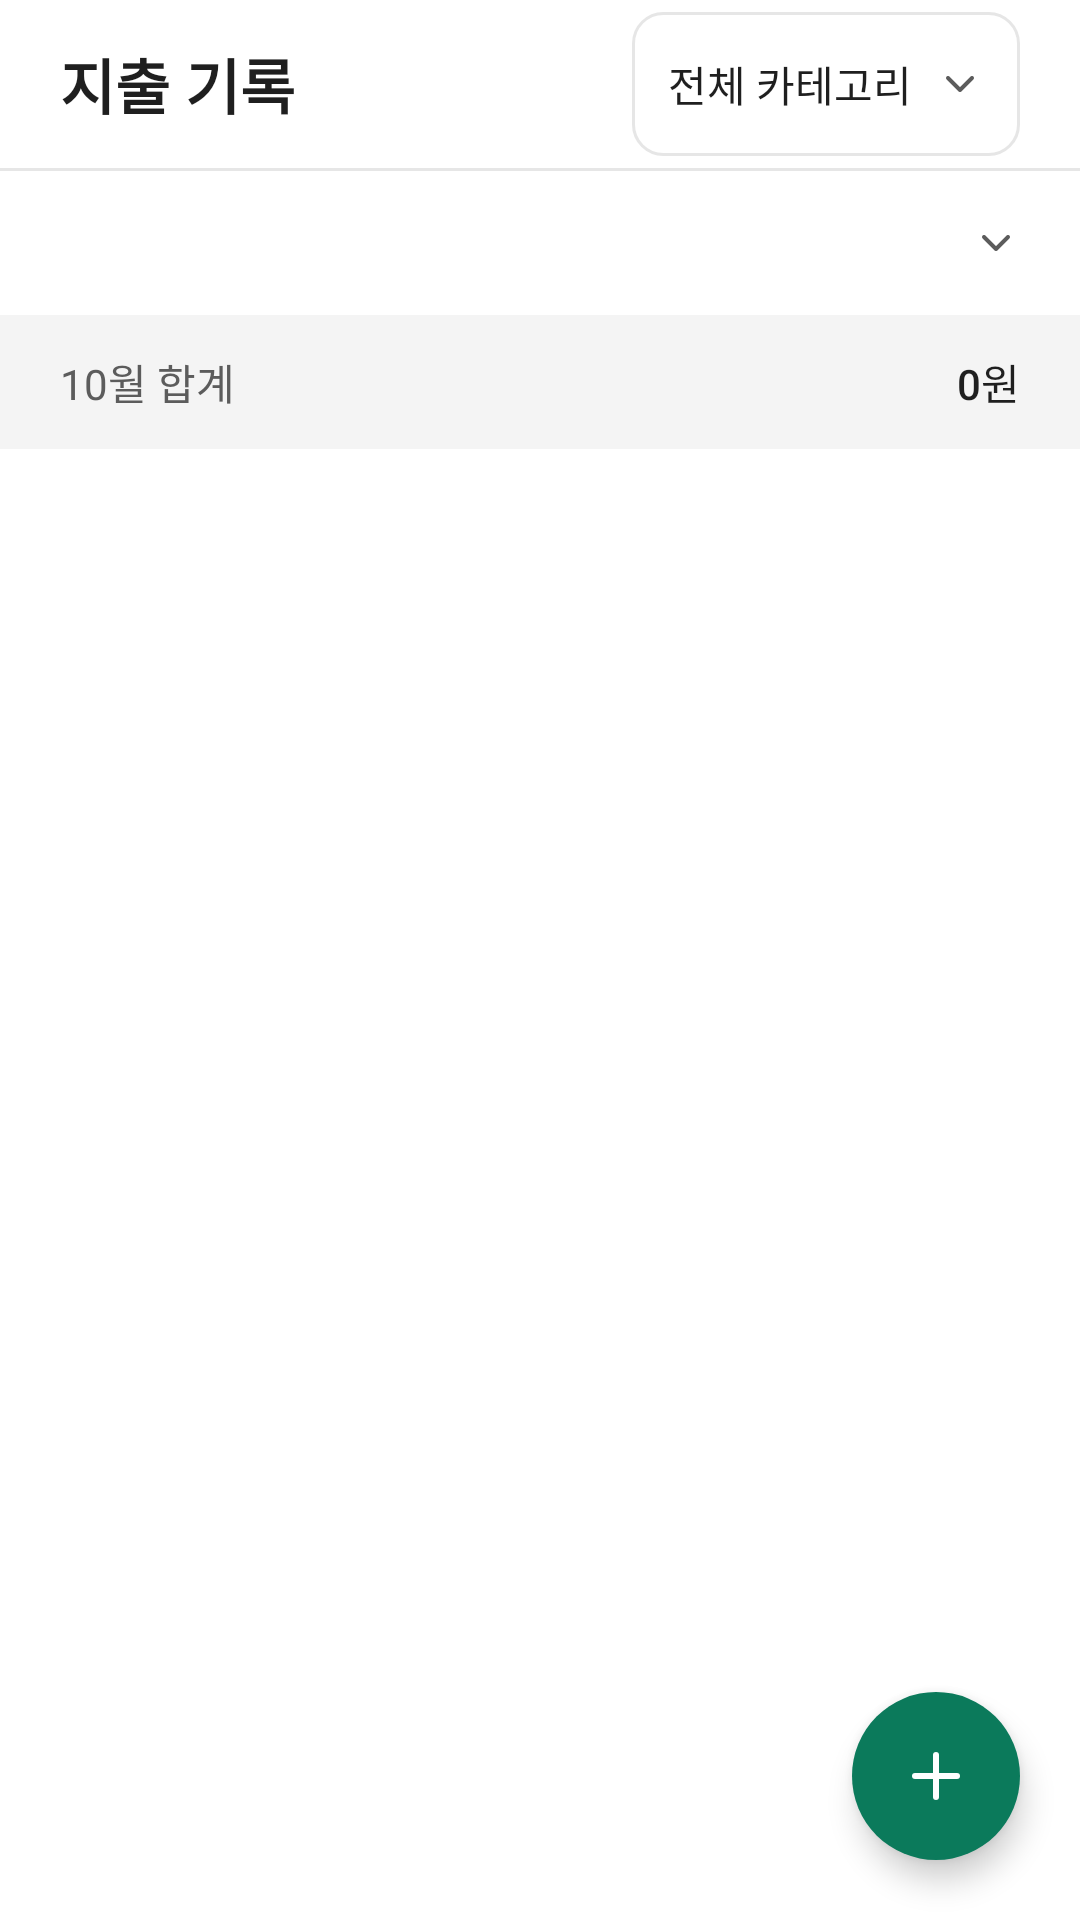

Where icons sit on this 1080×1920 app screen, as (x1, y1, x2, y2):
지출 추가: (852, 1692, 1020, 1860)
